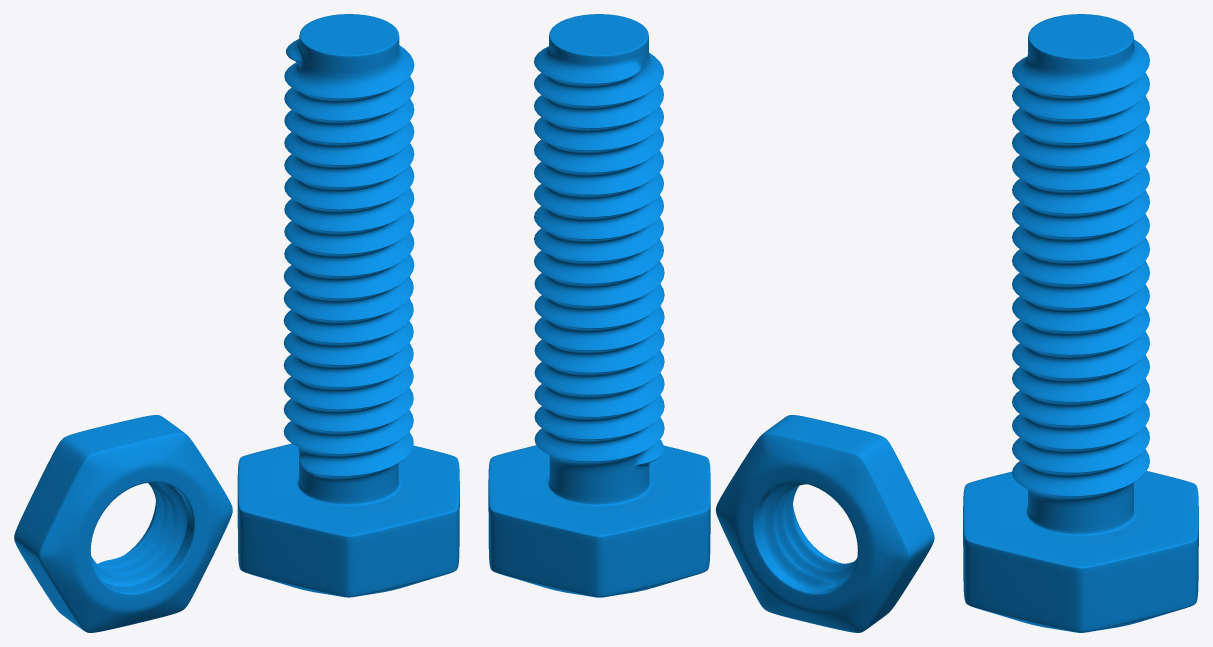
Rendered from Powder Coating.glb.
3 views of the same model, side by side, from view 1: azimuth 30°, elevation 25°; view 2: azimuth 150°, elevation 25°; view 3: azimuth 270°, elevation 25° (orthographic). The views are drawn at different scales.
Parts seen in each view (by area): view 1: Hex Screw_nut_; view 2: Hex Screw_nut_; view 3: Hex Screw_nut_.
Boxes of the visible parts, bbox=[...] form: Hex Screw_nut_: bbox=[14, 14, 459, 632]; Hex Screw_nut_: bbox=[488, 14, 934, 632]; Hex Screw_nut_: bbox=[963, 14, 1198, 632].
Bounding box in the file's own units: 0.0197 × 0.0229 × 0.00879.
Materials: 1 (1 with a texture image).
